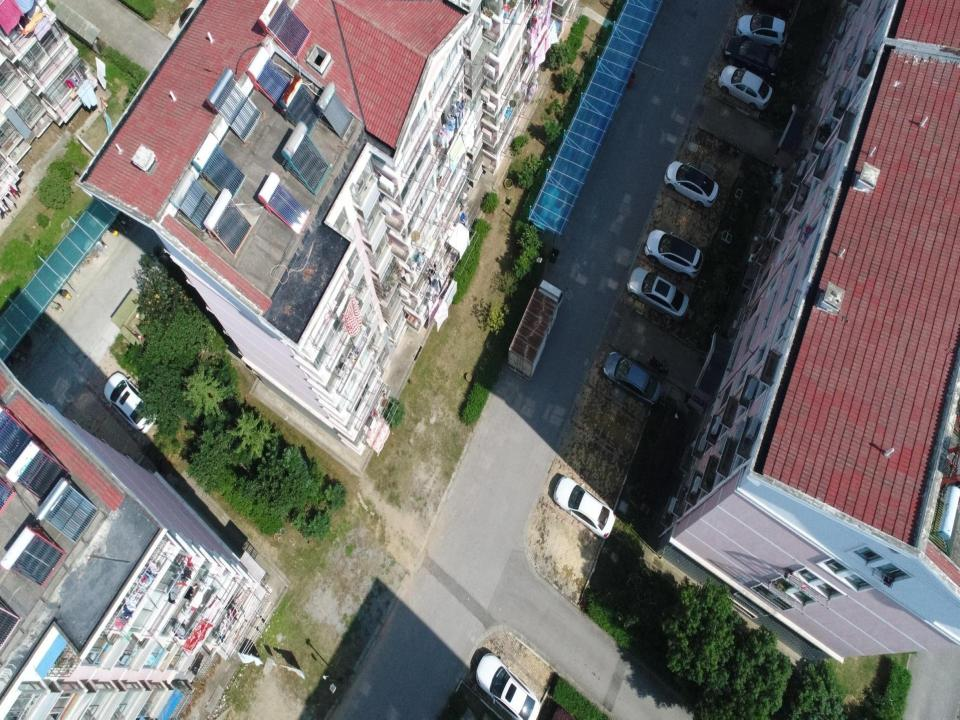car: (475, 654, 541, 719), (551, 474, 616, 539), (103, 369, 158, 442), (626, 265, 690, 321), (604, 350, 663, 410), (664, 154, 720, 210), (642, 228, 702, 280), (716, 66, 774, 112), (723, 34, 774, 74), (736, 14, 790, 50)
truck: (506, 282, 563, 378)
